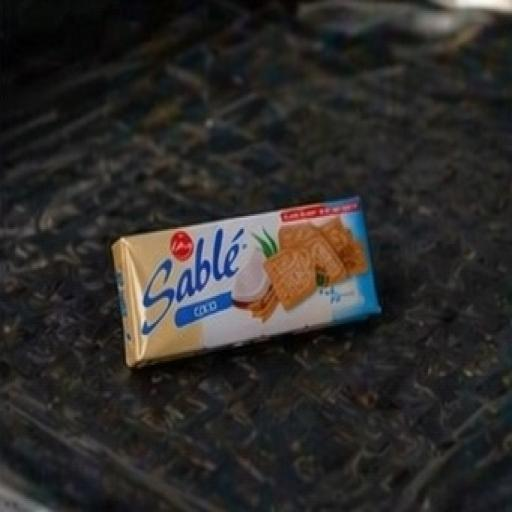sable: (91, 168, 404, 413)
